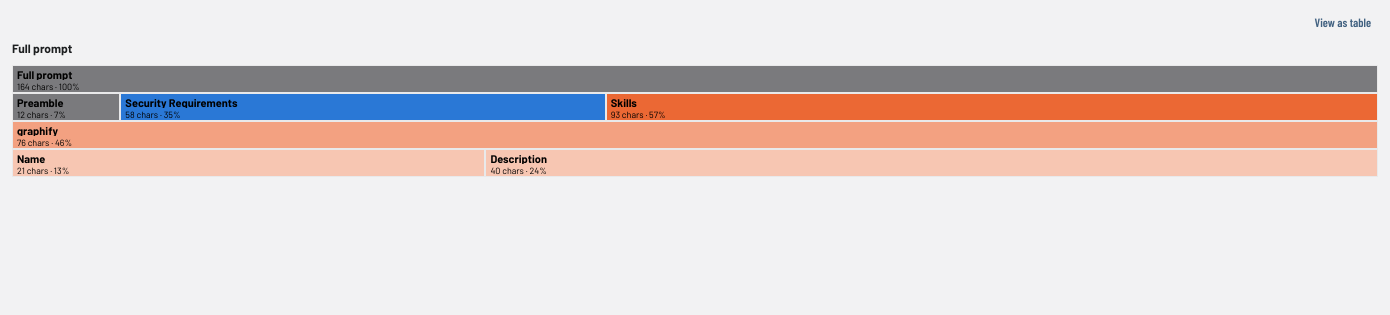
Test: PromptCompositionIcicle › offers the sections as a captioned table, with level, size and share
The image size is (1390, 315).
Click the button "View as table": (1343, 22) [1308,12,1378,32]
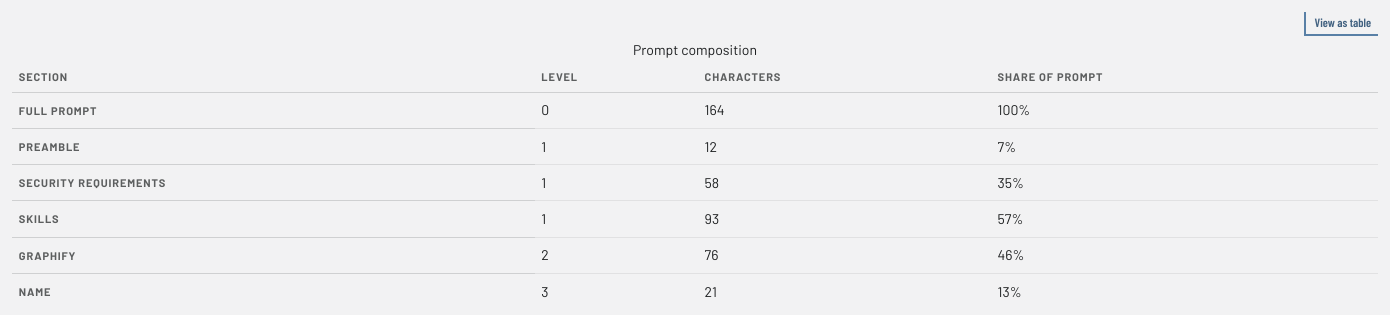
Expected: the column heading "graphify" is shown, [12,237,534,273]
Expected: the column headings read "Section", "Level", "Characters", "Share of prompt", in this order, [12,61,534,92]; [534,61,698,92]; [698,61,991,92]; [991,61,1378,92]
Expected: the cells read "1", "58", "35%", in this order, [534,165,698,201]; [698,165,991,201]; [991,165,1378,201]
